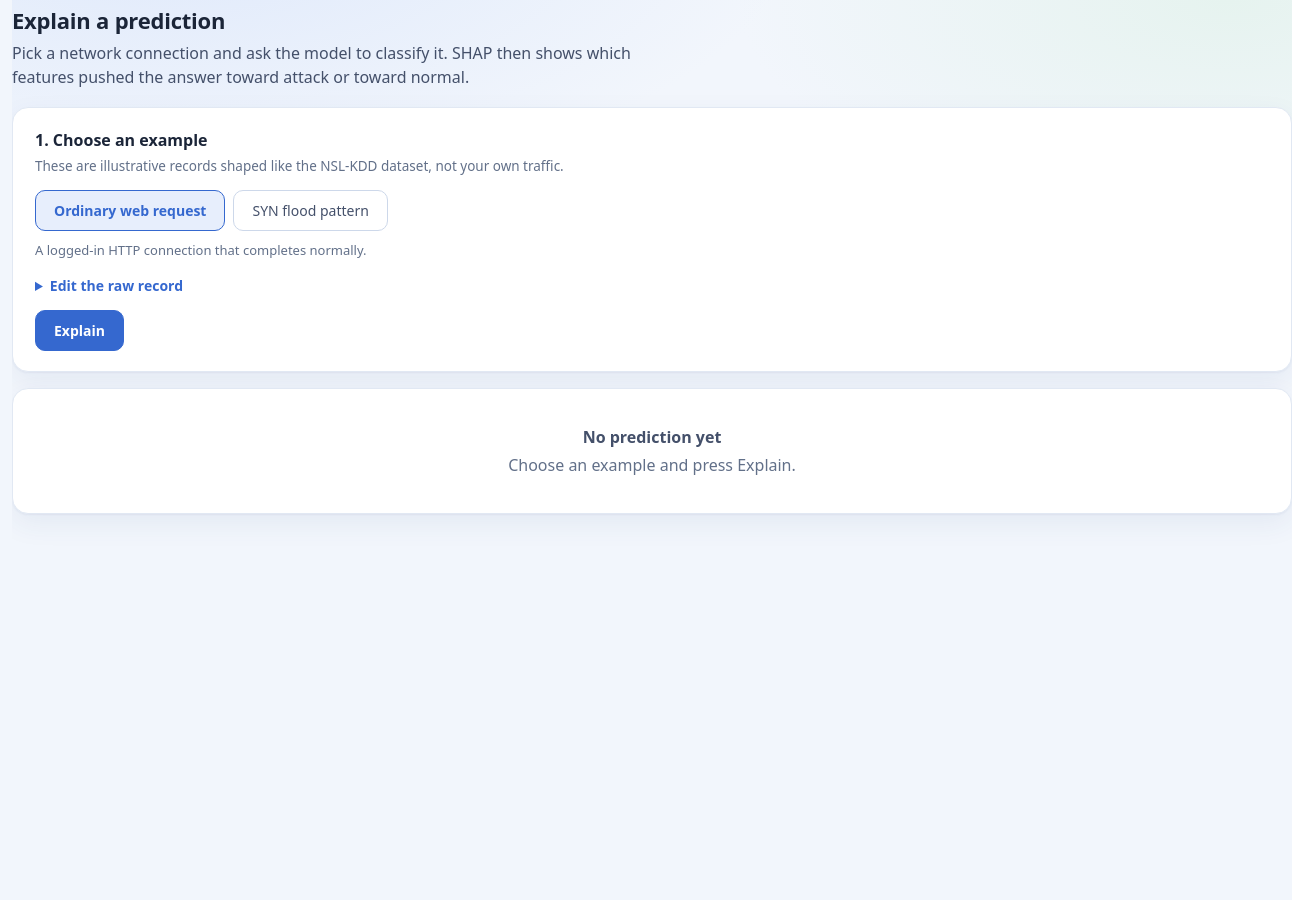
Test: Explain › sends the edited record and renders the real SHAP explanation returned
Click the button with test id "run-explain": coordinates (80, 330) 35,310 -> 124,351
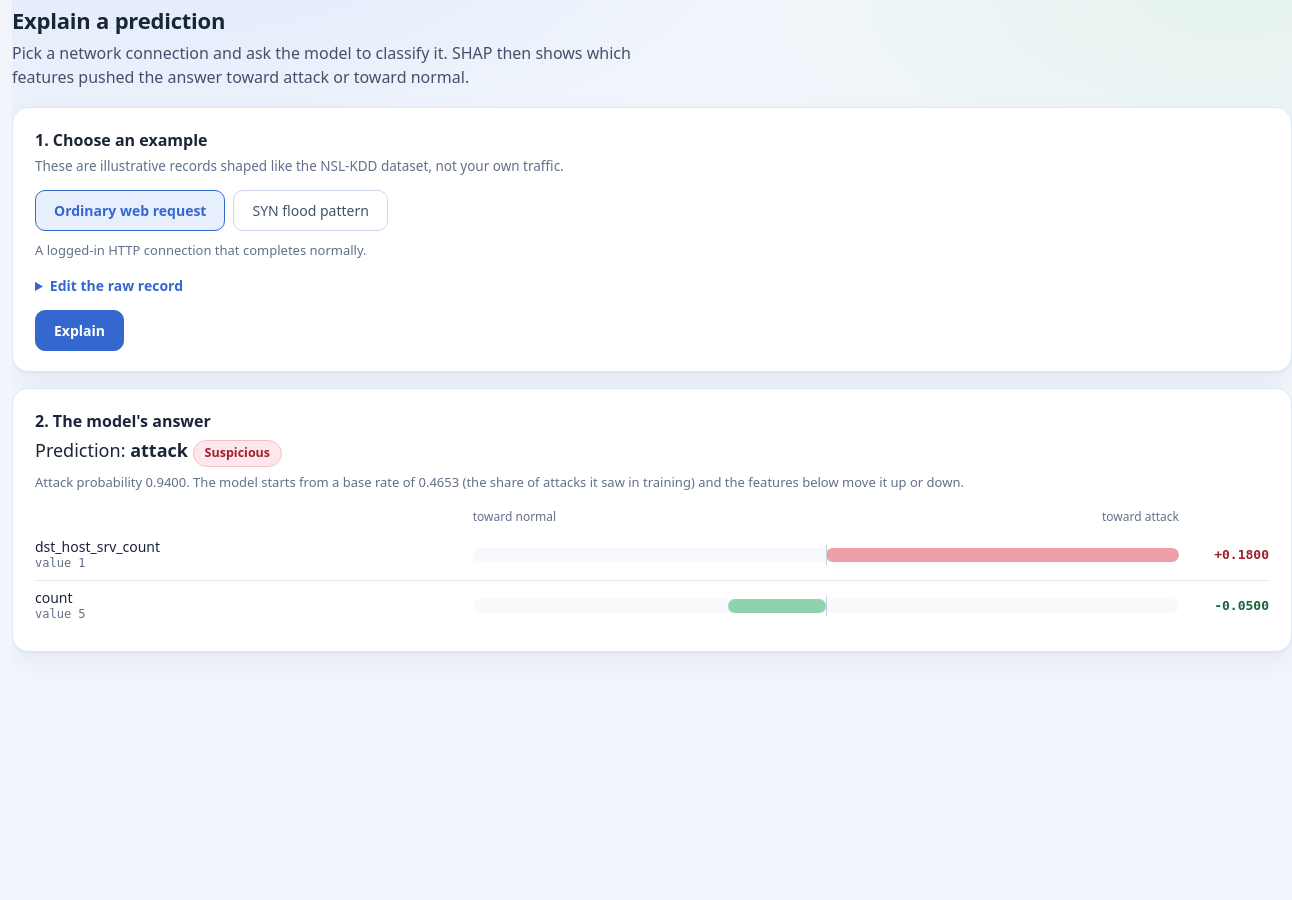
Expected: the element with test id "explain-result" is shown, 12,388 -> 1291,652
Expected: the text "attack" is shown, 130,438 -> 188,462
Expected: the text "dst_host_srv_count" is shown, 35,537 -> 160,556
